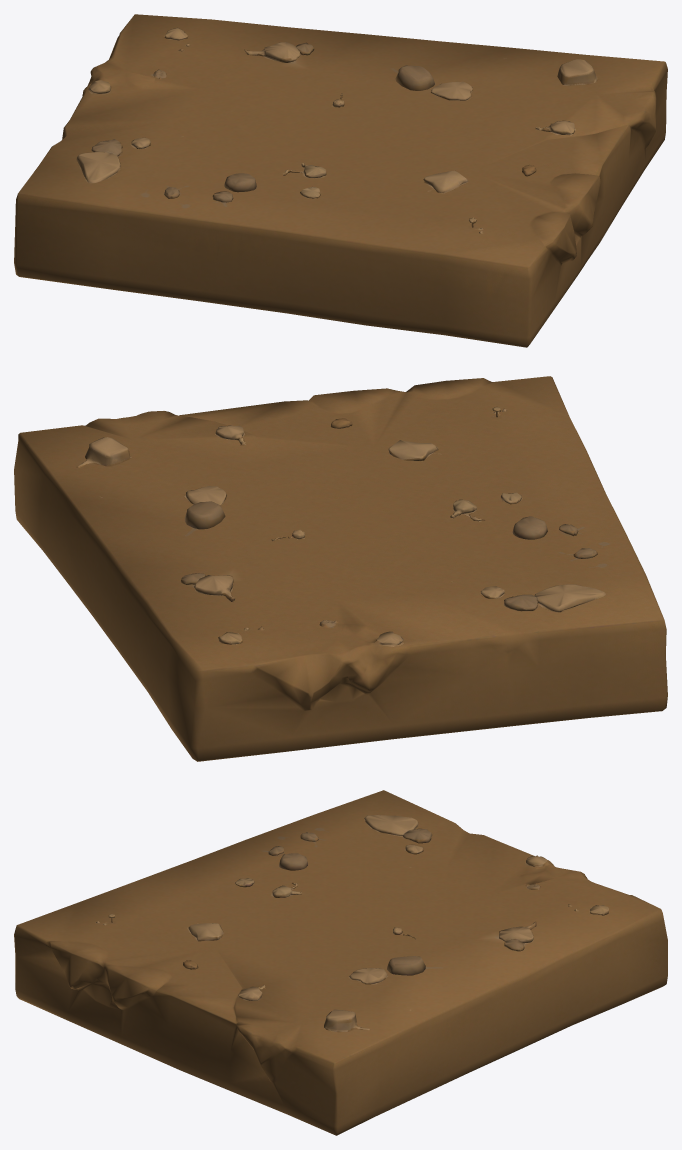
File: dirt_floor.fbx
3 views of the same model, one above another, from view 1: azimuth 30°, elevation 25°; view 2: azimuth 150°, elevation 25°; view 3: azimuth 270°, elevation 25° (orthographic). The views are drawn at different scales.
Parts seen in each view (by area): view 1: tripo_node_8bad3e26; view 2: tripo_node_8bad3e26; view 3: tripo_node_8bad3e26.
Boxes of the visible parts, bbox=[...] form: tripo_node_8bad3e26: bbox=[14, 14, 667, 347]; tripo_node_8bad3e26: bbox=[14, 376, 667, 761]; tripo_node_8bad3e26: bbox=[14, 790, 667, 1135].
Bounding box in the file's own units: 0.9941 × 0.1504 × 0.998.
